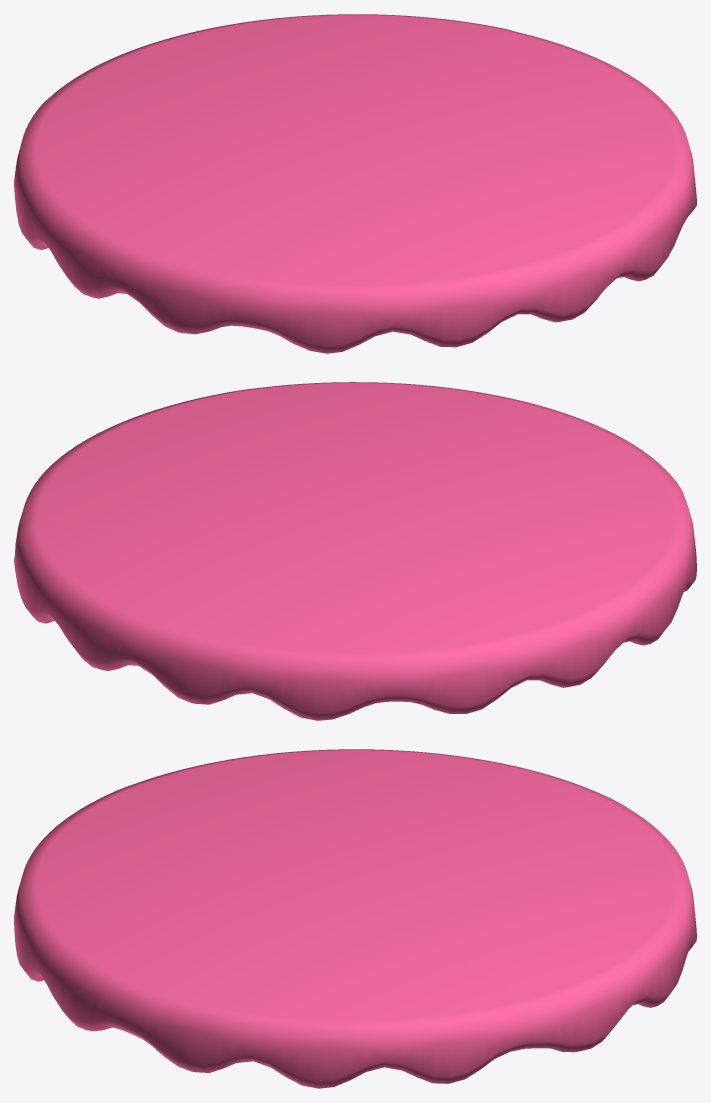
Rendered from Cake_Lrg_itemsTop_icing-thick.FBX.
The picture shows the model from 3 angles, top to bottom: view 1: azimuth 30°, elevation 25°; view 2: azimuth 150°, elevation 25°; view 3: azimuth 270°, elevation 25°; orthographic projection.
Visible parts, largest first — view 1: Cake_Lrg_itemsTop_icing-thick; view 2: Cake_Lrg_itemsTop_icing-thick; view 3: Cake_Lrg_itemsTop_icing-thick.
Boxes of the visible parts, <box> form: Cake_Lrg_itemsTop_icing-thick: <box>14,14,696,353</box>; Cake_Lrg_itemsTop_icing-thick: <box>14,382,696,720</box>; Cake_Lrg_itemsTop_icing-thick: <box>14,749,696,1088</box>.
Bounding box in the file's own units: 9953 × 1069 × 9950.
